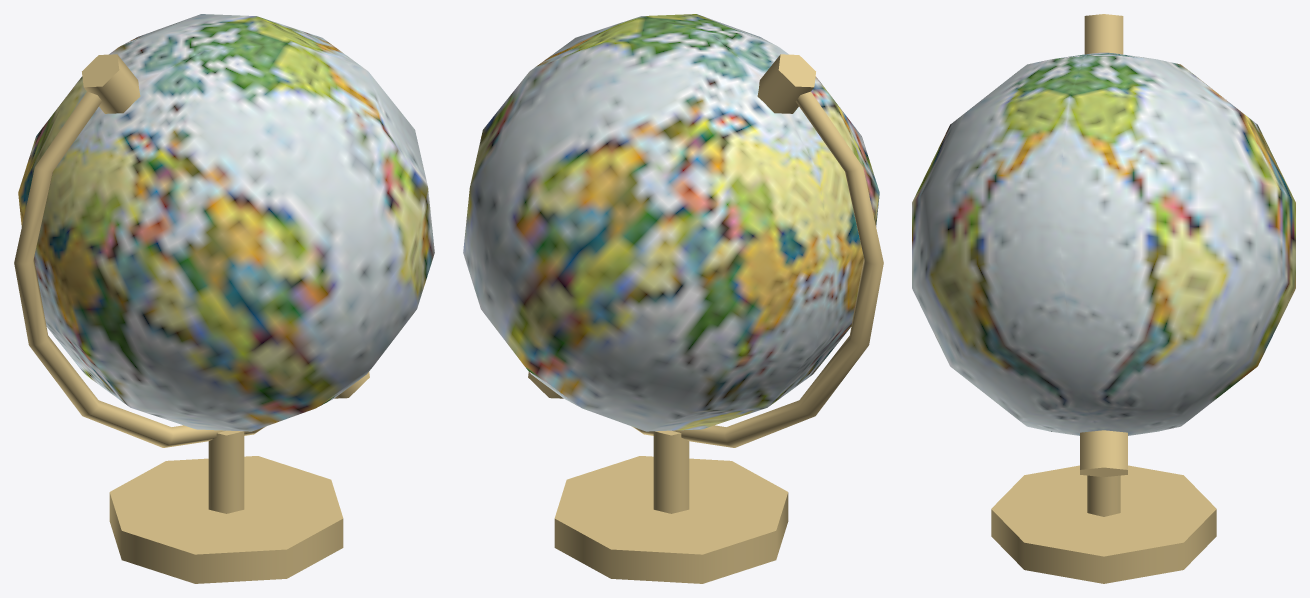
The model's file is 01_prop_globe.FBX.
The picture shows the model from 3 angles, left to right: view 1: azimuth 30°, elevation 25°; view 2: azimuth 150°, elevation 25°; view 3: azimuth 270°, elevation 25°; orthographic projection. The views are drawn at different scales.
Visible parts, largest first — view 1: prop_globe(light), prop_globe1; view 2: prop_globe(light), prop_globe1; view 3: prop_globe(light), prop_globe1.
Part boxes in pixels (bbox=[...]): prop_globe(light): bbox=[18, 14, 434, 431]; prop_globe1: bbox=[14, 54, 369, 583]; prop_globe(light): bbox=[463, 14, 879, 431]; prop_globe1: bbox=[528, 54, 883, 583]; prop_globe(light): bbox=[912, 52, 1295, 435]; prop_globe1: bbox=[991, 14, 1216, 583].
Size of the model in its own units: 20.74 by 25.63 by 18.86.
